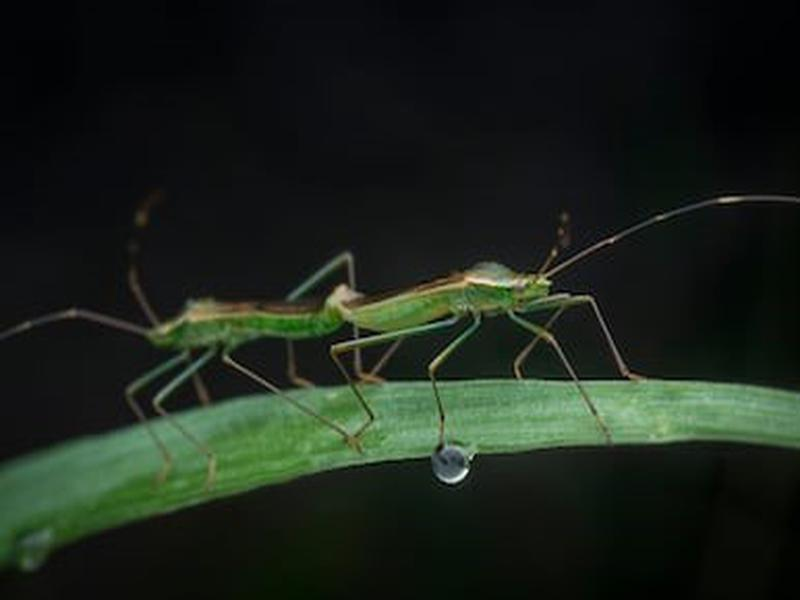Rice_earhead_bug: (112, 236, 636, 413)
